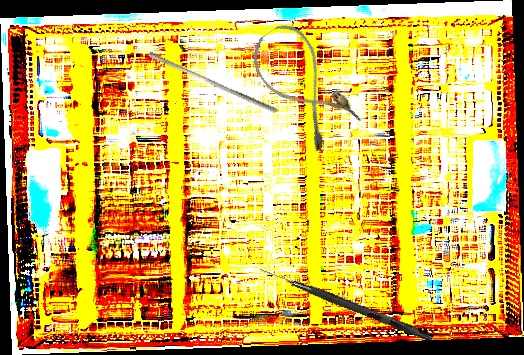Cannula: (242, 16, 363, 154)
Hook Surgical: (257, 266, 435, 342)
Pusher: (145, 50, 281, 115)
